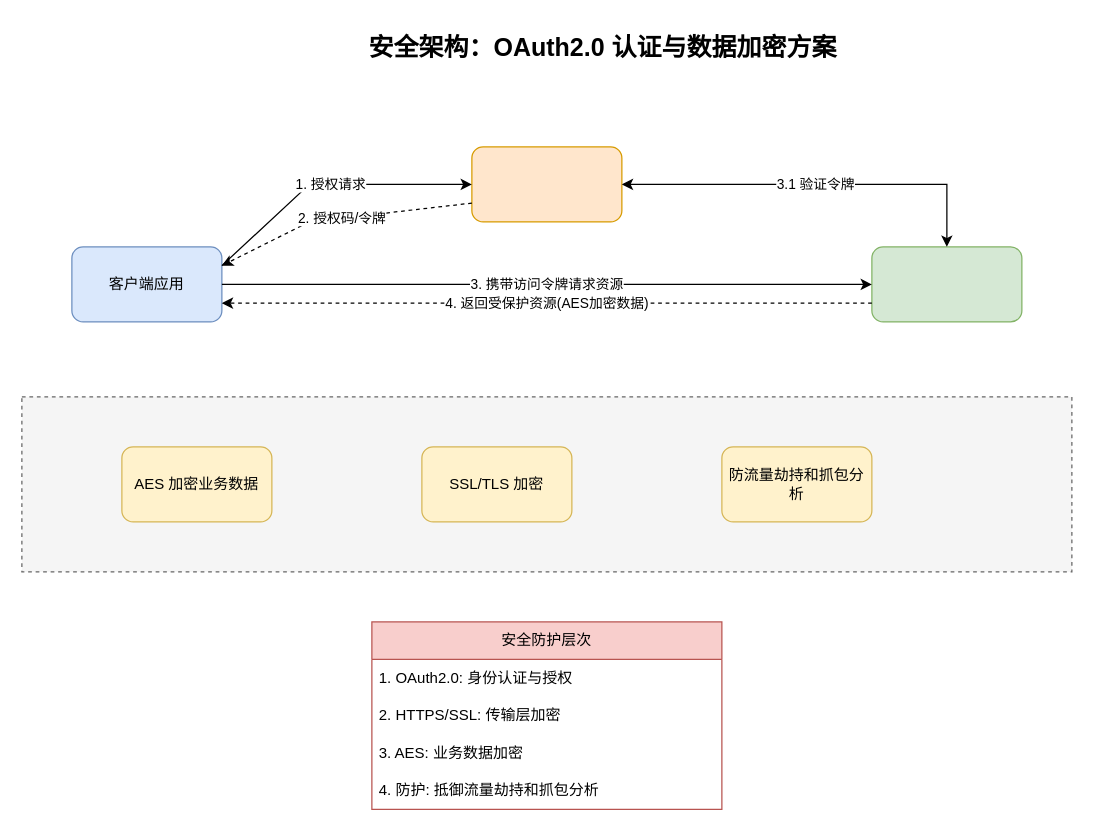
Some shapes in this 1094 by 831 pixel diagram are drawn without their labels. Here are the shapes that lost their labels. From the top down, the box of each, then its label:
(471, 146, 622, 222): 授权服务器
(871, 246, 1022, 322): 资源服务器
(21, 396, 1072, 572): HTTPS 安全传输层
